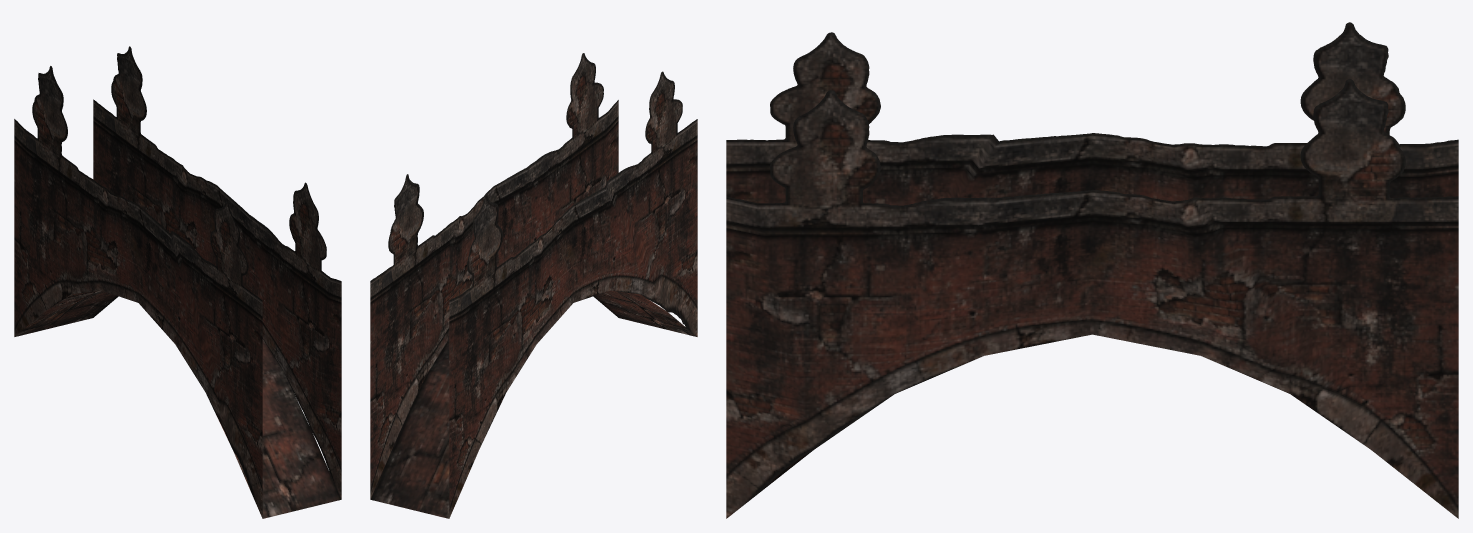
File: B06_Arch.fbx
3 views of the same model, side by side, from view 1: azimuth 30°, elevation 25°; view 2: azimuth 150°, elevation 25°; view 3: azimuth 270°, elevation 25° (orthographic). The views are drawn at different scales.
Visible parts, largest first — view 1: B006_Arch; view 2: B006_Arch; view 3: B006_Arch.
Boxes of the visible parts, x1,y1,x2,y2 form: B006_Arch: (14,46,341,518); B006_Arch: (370,53,697,518); B006_Arch: (726,22,1458,518).
Size of the model in its own units: 0.2113 by 0.7777 by 1.15.
1 material, 1 textured.
